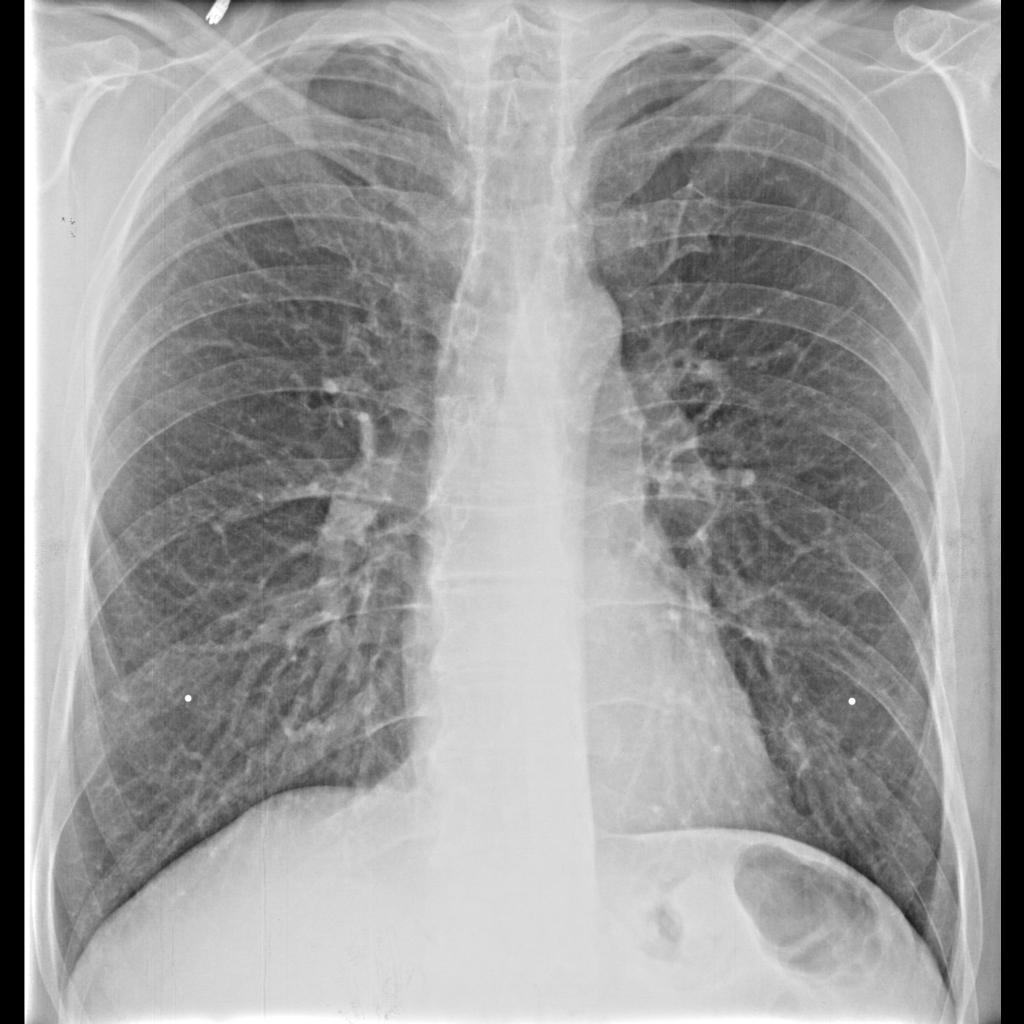Nodule: (855, 567, 883, 595)
